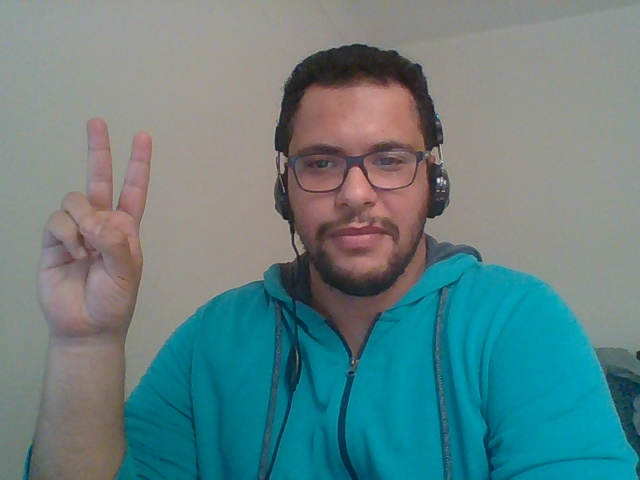vectory: (16, 107, 170, 355)
